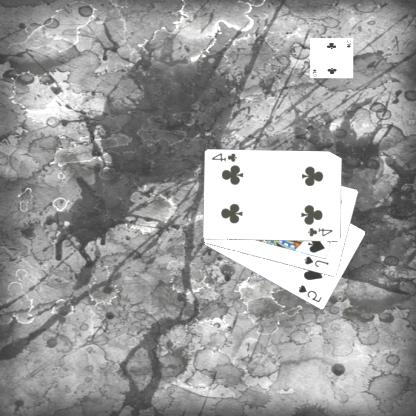4C: (211, 150, 240, 164), (307, 225, 336, 238)
5S: (297, 282, 325, 304)
JS: (303, 254, 332, 270)
